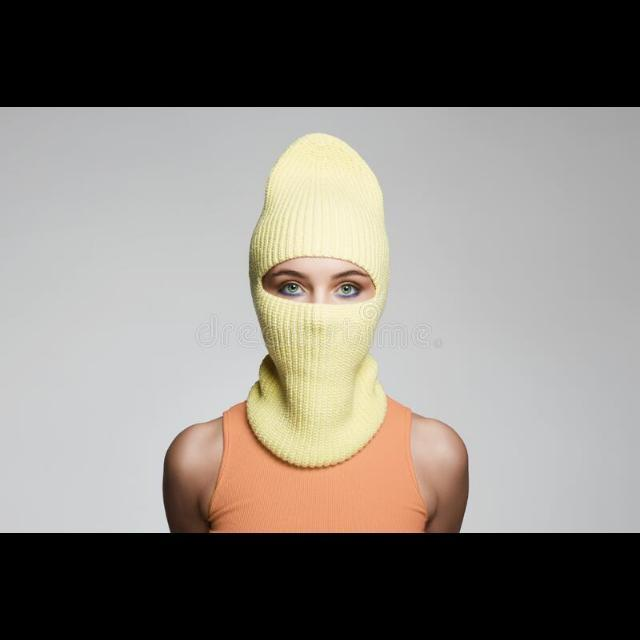criminal: (162, 130, 472, 533)
